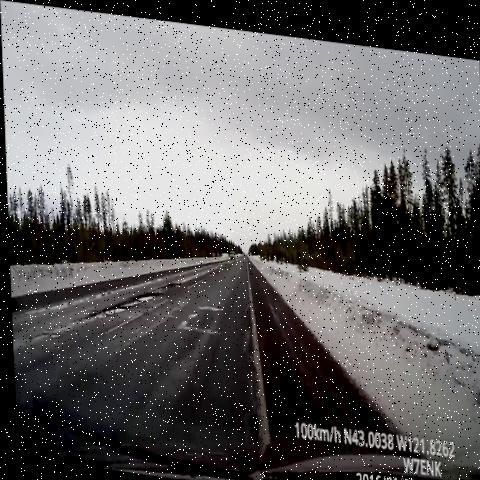pothole: (84, 281, 161, 334), (17, 310, 66, 360), (151, 265, 186, 294)
